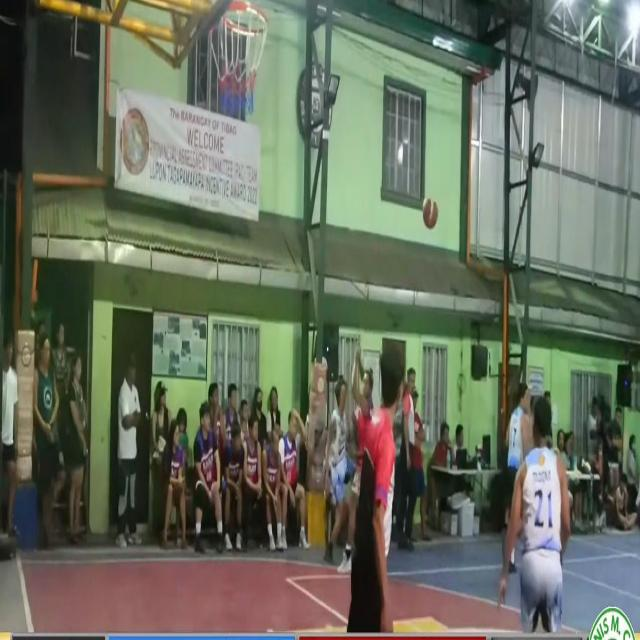basketball: (420, 191, 440, 236)
hoop: (217, 0, 269, 125)
